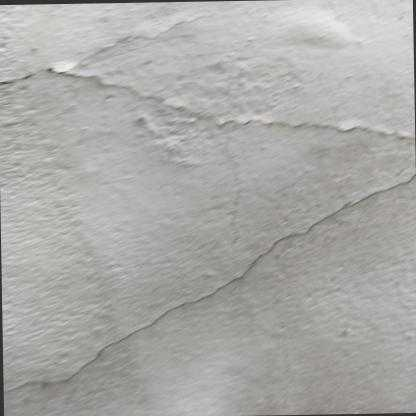crack: (11, 174, 414, 392)
